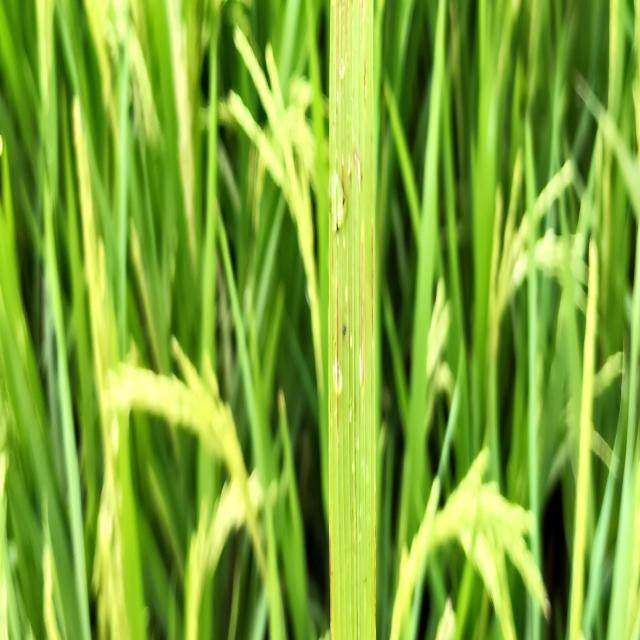NBS: (360, 227, 364, 386), (371, 221, 374, 335), (337, 289, 339, 431), (374, 496, 376, 629), (330, 530, 332, 640), (342, 161, 345, 212), (346, 0, 348, 54), (338, 0, 339, 87), (332, 235, 334, 269), (362, 0, 364, 34), (364, 63, 366, 89), (333, 0, 335, 3)
